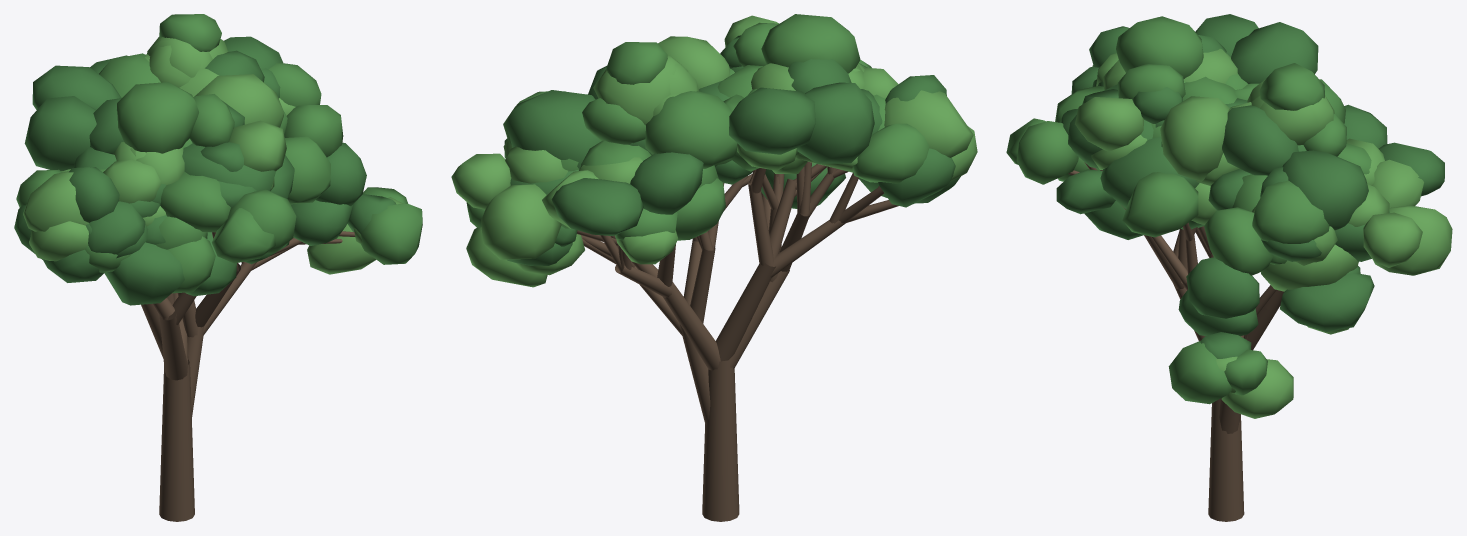
File: tree_small.glb
The picture shows the model from 3 angles, left to right: view 1: azimuth 30°, elevation 25°; view 2: azimuth 150°, elevation 25°; view 3: azimuth 270°, elevation 25°; orthographic projection. The views are drawn at different scales.
Parts seen in each view (by area): view 1: tree_small_Canopy2, tree_small_Canopy0, tree_small_Canopy1, tree_small_Branches; view 2: tree_small_Canopy2, tree_small_Canopy1, tree_small_Canopy0, tree_small_Branches; view 3: tree_small_Canopy2, tree_small_Canopy0, tree_small_Canopy1, tree_small_Branches.
Boxes of the visible parts, x1,y1,x2,y2 form: tree_small_Canopy2: (14, 36, 395, 305); tree_small_Canopy0: (16, 14, 422, 293); tree_small_Canopy1: (23, 37, 403, 274); tree_small_Branches: (141, 231, 355, 521); tree_small_Canopy2: (504, 35, 960, 265); tree_small_Canopy1: (451, 15, 977, 287); tree_small_Canopy0: (466, 14, 929, 240); tree_small_Branches: (577, 161, 898, 521); tree_small_Canopy2: (1056, 14, 1444, 358); tree_small_Canopy0: (1006, 16, 1371, 404); tree_small_Canopy1: (1075, 48, 1452, 418); tree_small_Branches: (1068, 162, 1284, 521).
Bounding box in the file's own units: 2.08 × 2.13 × 1.85.
